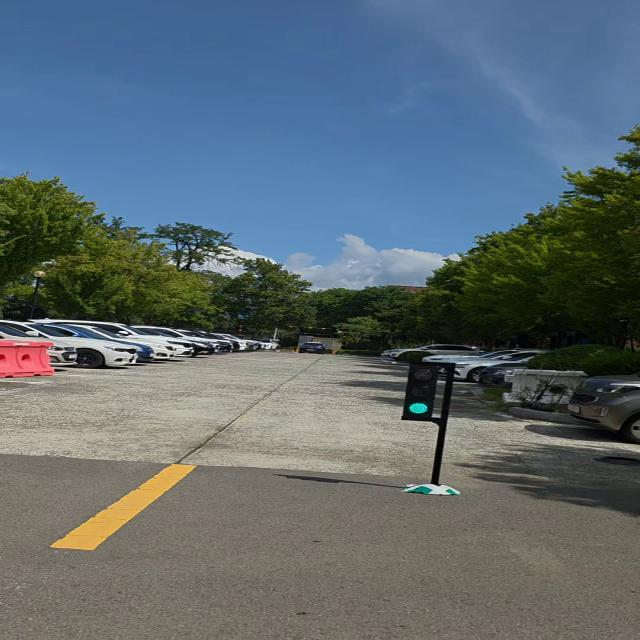green: (402, 362, 442, 421)
